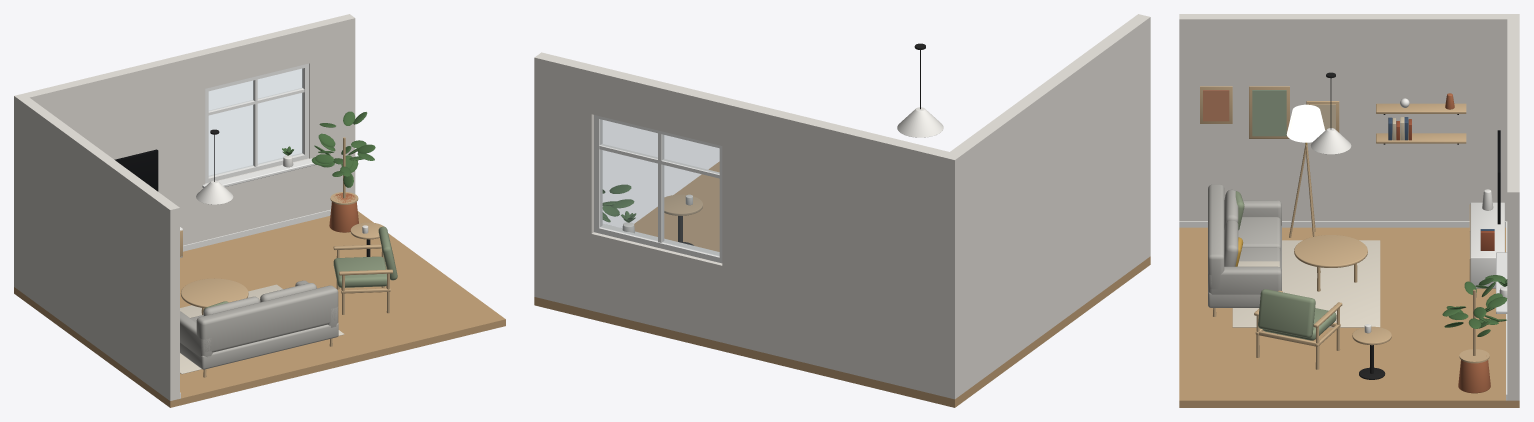
File: nordic_living_room.glb
3 renders of one model, left to right at view 1: azimuth 30°, elevation 25°; view 2: azimuth 150°, elevation 25°; view 3: azimuth 270°, elevation 25°, orthographic. The views are drawn at different scales.
Parts seen in each view (by area): view 1: Wall_Left, Floor, Wall_Back_L, Sofa, Wall_Back_R, Window_Glass, Wall_Back_Bottom, Wall_Back_Top, Plant_Fiddle_Leaf, Armchair, Coffee_Table, TV (+8 smaller); view 2: Wall_Back_L, Wall_Left, Wall_Back_R, Window_Glass, Wall_Back_Bottom, Floor, Wall_Back_Top, Window_Frame_Bottom, Pendant_Lamp, Window_Frame_R, Side_Table, Window_Transom (+2 smaller); view 3: Wall_Left, Floor, Sofa, Rug, Armchair, Wall_Back_R, Plant_Fiddle_Leaf, TV_Console, Coffee_Table, Wall_Art_1, Floor_Lamp, Skirting_Left (+12 smaller).
Boxes of the visible parts, <box> form: Wall_Left: <box>14,93,179,400</box>; Floor: <box>14,211,505,407</box>; Wall_Back_L: <box>24,50,205,245</box>; Sofa: <box>180,280,338,377</box>; Wall_Back_R: <box>304,14,355,214</box>; Window_Glass: <box>209,68,302,176</box>; Wall_Back_Bottom: <box>205,158,309,239</box>; Wall_Back_Top: <box>200,25,309,88</box>; Plant_Fiddle_Leaf: <box>311,111,375,232</box>; Armchair: <box>333,226,397,314</box>; Coffee_Table: <box>180,278,248,314</box>; TV: <box>114,149,158,191</box>; Wall_Back_L: <box>722,98,949,396</box>; Wall_Left: <box>942,14,1150,399</box>; Wall_Back_R: <box>534,52,597,310</box>; Window_Glass: <box>600,119,719,255</box>; Wall_Back_Bottom: <box>591,232,722,342</box>; Floor: <box>534,161,1150,407</box>; Wall_Back_Top: <box>591,66,728,145</box>; Window_Frame_Bottom: <box>594,225,722,262</box>; Pendant_Lamp: <box>897,43,943,137</box>; Window_Frame_R: <box>594,115,602,232</box>; Side_Table: <box>664,194,702,245</box>; Window_Transom: <box>599,144,719,178</box>; Wall_Left: <box>1179,14,1519,221</box>; Floor: <box>1179,227,1519,407</box>; Sofa: <box>1208,184,1281,316</box>; Rug: <box>1232,240,1380,327</box>; Armchair: <box>1254,289,1342,369</box>; Wall_Back_R: <box>1507,168,1519,400</box>; Plant_Fiddle_Leaf: <box>1442,275,1507,393</box>; TV_Console: <box>1469,202,1504,297</box>; Coffee_Table: <box>1294,235,1367,291</box>; Wall_Art_1: <box>1249,86,1289,138</box>; Floor_Lamp: <box>1286,104,1325,237</box>; Skirting_Left: <box>1179,221,1507,227</box>.
Size of the model in its own units: 5.16 by 2.9 by 4.15.
